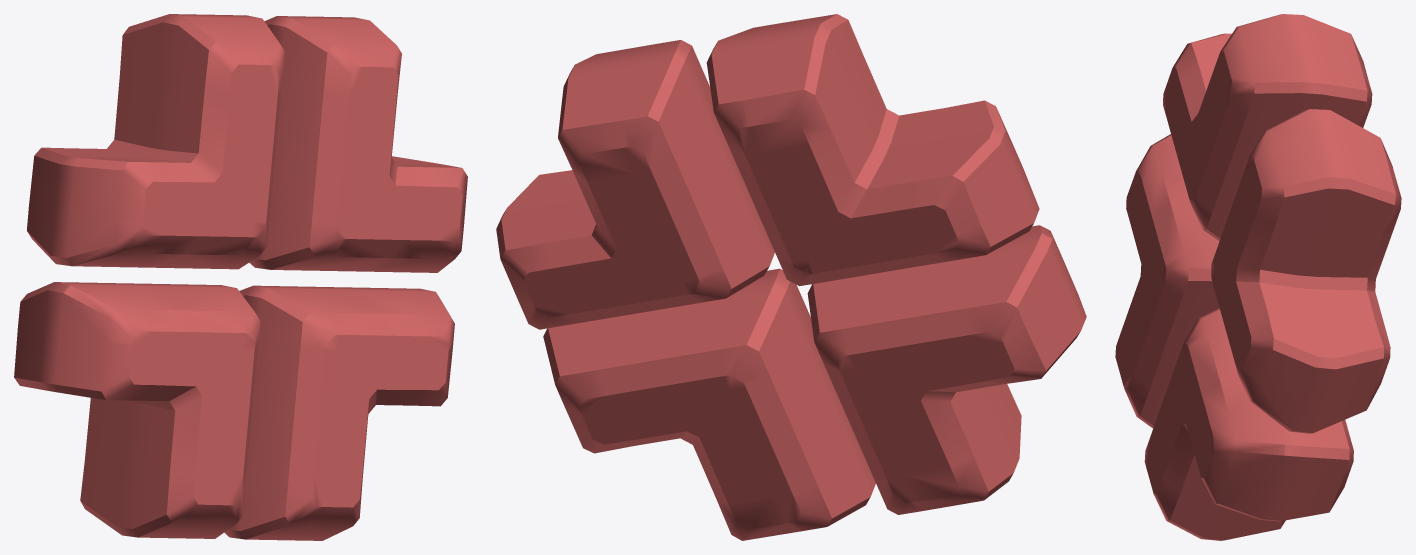
The model's file is angrysign.fbx.
3 renders of one model, left to right at view 1: azimuth 30°, elevation 25°; view 2: azimuth 150°, elevation 25°; view 3: azimuth 270°, elevation 25°, orthographic. The views are drawn at different scales.
Parts seen in each view (by area): view 1: pPlane2; view 2: pPlane2; view 3: pPlane2.
Part boxes in pixels (x1,y1,x2,y2): pPlane2: (14, 14, 467, 540); pPlane2: (496, 14, 1086, 540); pPlane2: (1115, 14, 1401, 540).
Bounding box in the file's own units: 3.4 × 3.51 × 1.87.
